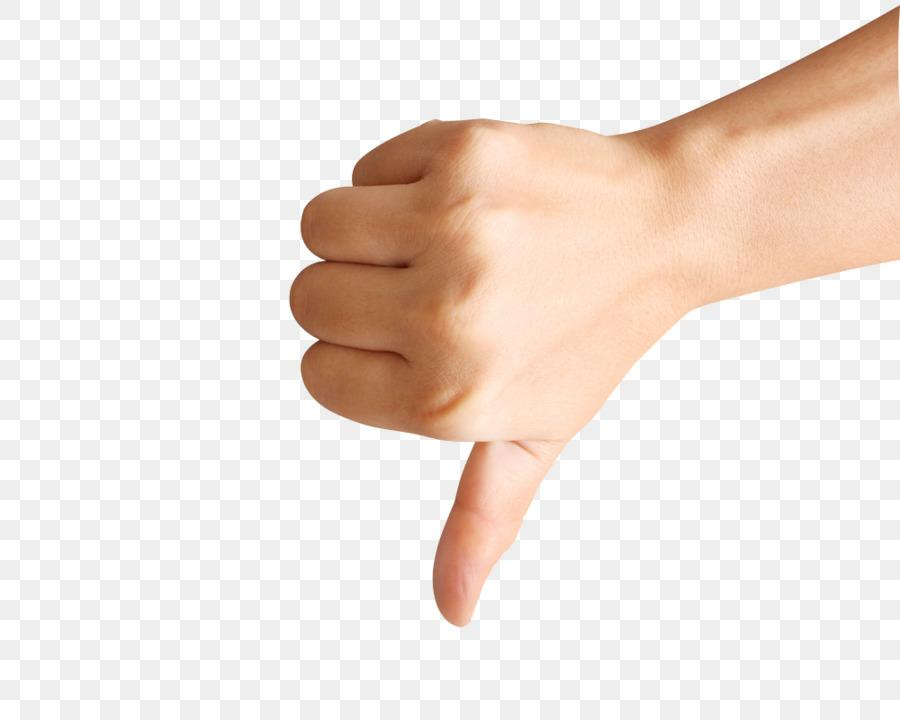thumbsdown: (285, 118, 602, 631)
